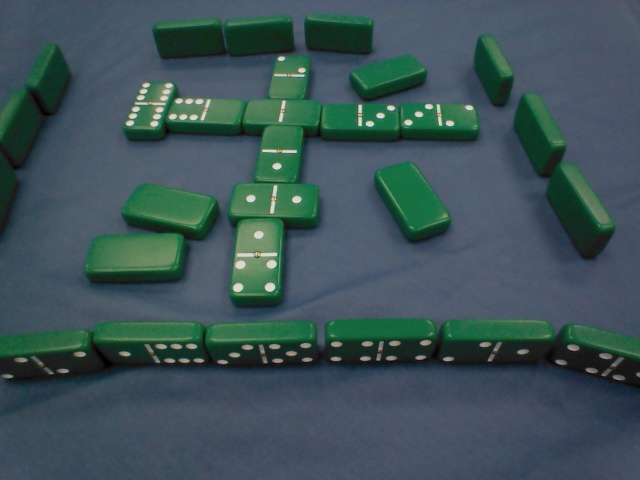A: (368, 157, 452, 242), (117, 180, 223, 239), (82, 227, 185, 278), (345, 51, 430, 95)
B: (230, 217, 285, 301), (231, 177, 322, 227), (398, 97, 485, 141), (320, 96, 401, 143), (238, 89, 320, 135), (165, 88, 241, 133), (252, 128, 314, 183), (124, 78, 173, 140), (266, 50, 309, 102)
C: (22, 39, 72, 115), (1, 89, 44, 166), (1, 153, 19, 232)
D: (535, 158, 620, 266), (507, 91, 571, 181), (462, 34, 516, 110)
E: (86, 317, 209, 378), (441, 314, 554, 376), (320, 314, 436, 370), (552, 321, 640, 389), (207, 322, 324, 371), (1, 327, 100, 383)
F: (146, 16, 228, 61), (302, 14, 378, 58), (222, 16, 299, 58)
